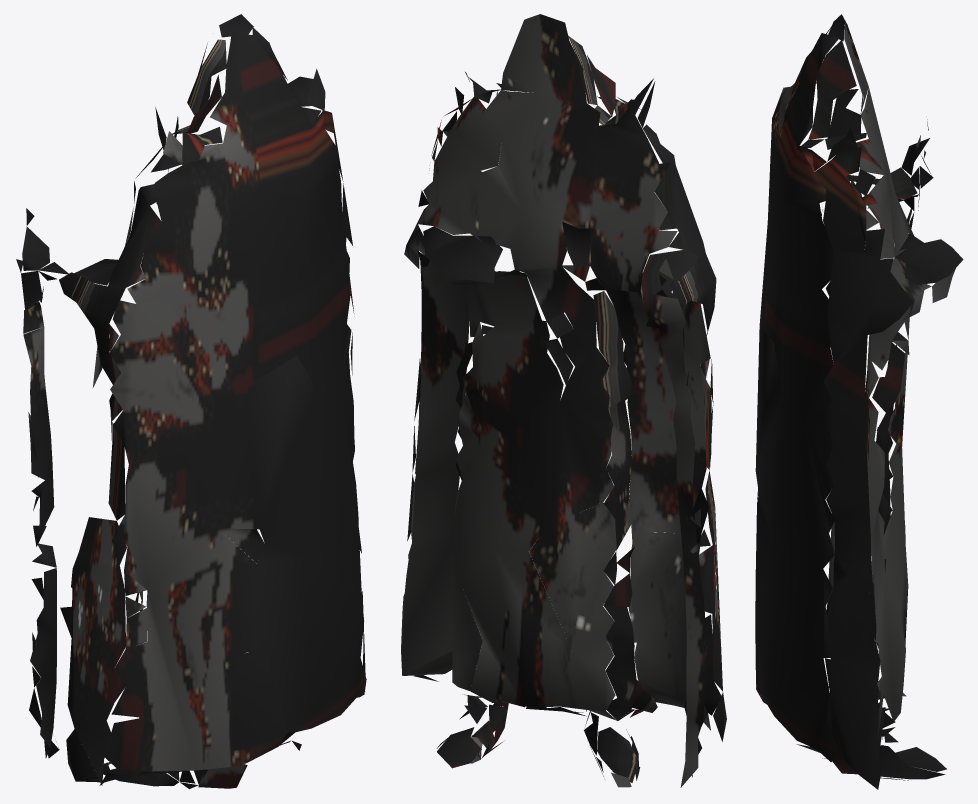
The picture shows the model from 3 angles, left to right: view 1: azimuth 30°, elevation 25°; view 2: azimuth 150°, elevation 25°; view 3: azimuth 270°, elevation 25°; orthographic projection. The views are drawn at different scales.
Visible parts, largest first — view 1: body.002; view 2: body.002; view 3: body.002.
Boxes of the visible parts, left/top/right/bottom form: body.002: left=16, top=14, right=366, bottom=789; body.002: left=401, top=14, right=726, bottom=787; body.002: left=755, top=14, right=963, bottom=789.
Size of the model in its own units: 0.9017 by 1.99 by 0.5145.
Materials: 1 (1 with a texture image).
